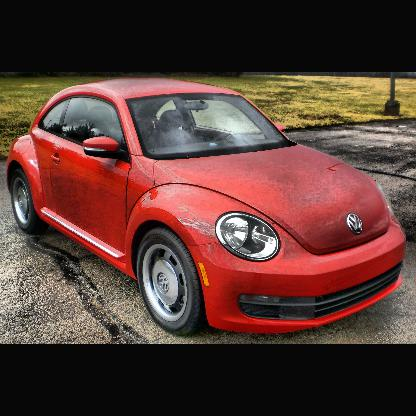Volkswagen Beetle Hatchback 2012: (9, 78, 407, 334)
